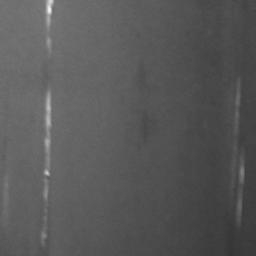Bright scratch: (41, 87, 52, 250), (46, 0, 54, 31)
